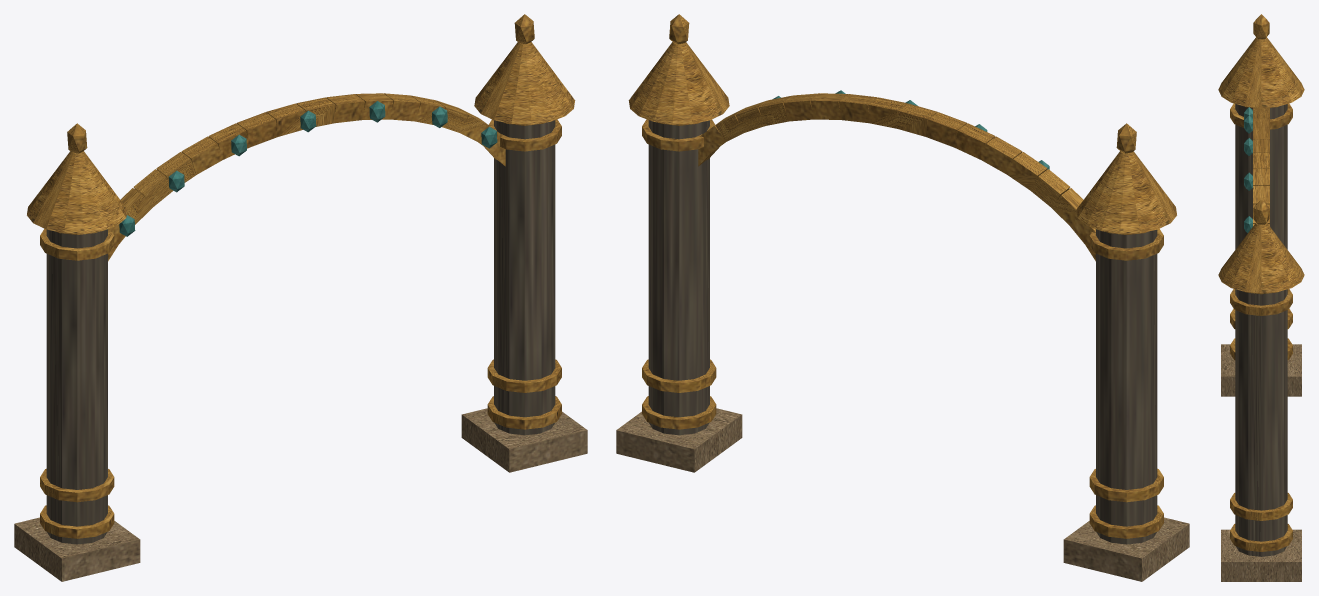
File: stern-memory-arch.glb
3 views of the same model, side by side, from view 1: azimuth 30°, elevation 25°; view 2: azimuth 150°, elevation 25°; view 3: azimuth 270°, elevation 25° (orthographic). The views are drawn at different scales.
Visible parts, largest first — view 1: stern-memory-arch; view 2: stern-memory-arch; view 3: stern-memory-arch.
Boxes of the visible parts, box(x1,y1,x2,y2) form: stern-memory-arch: box(14, 14, 587, 581); stern-memory-arch: box(616, 14, 1189, 581); stern-memory-arch: box(1218, 14, 1304, 581).
Size of the model in its own units: 7.66 by 5.9 by 1.26.
1 material, 1 textured.
